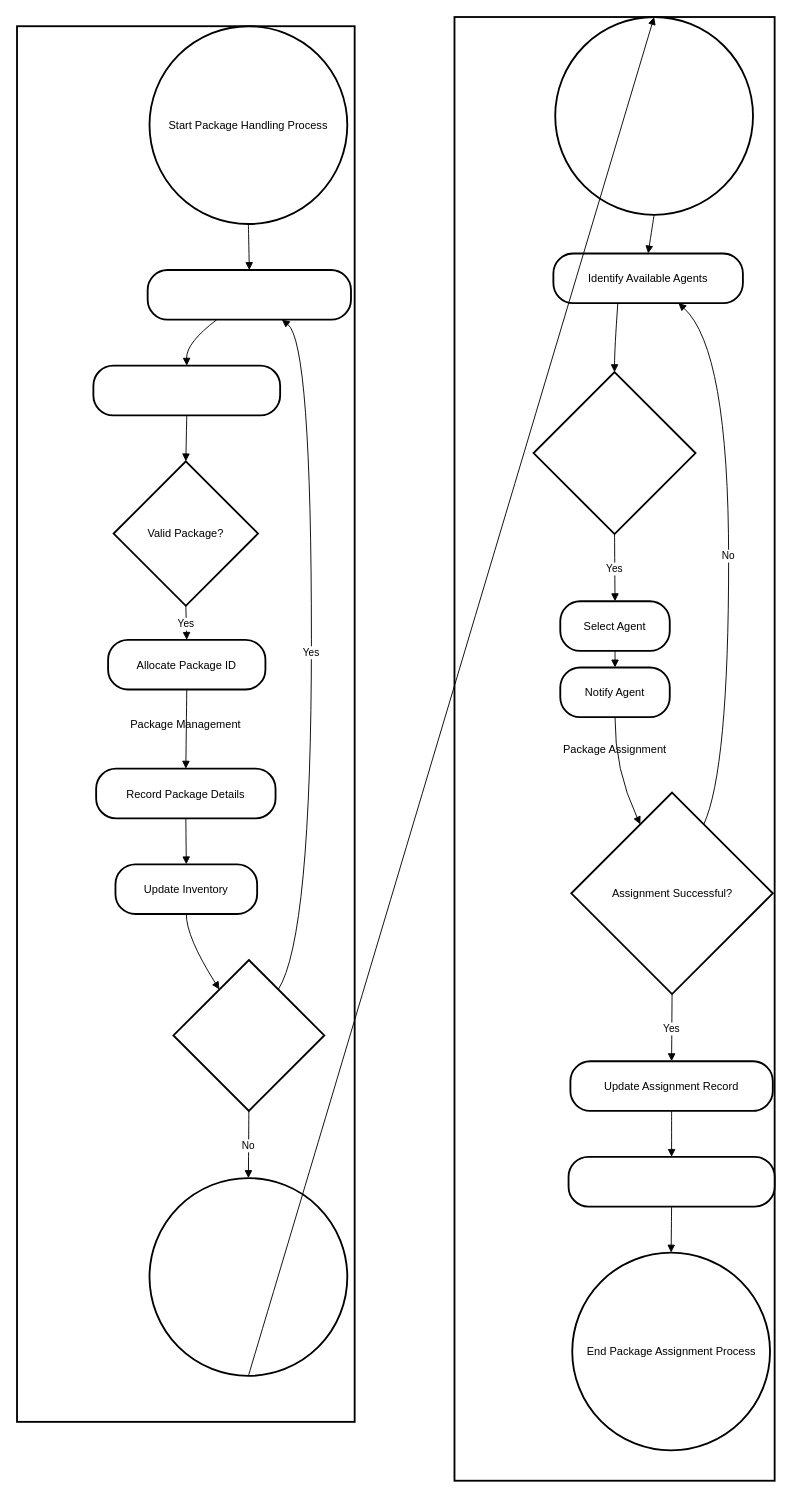
The diagram is 791 pixels wide and 1497 high, and some of its shapes have lost their labels. The box of each missing label's shape, as (x1, y1, x2, y2) in pixels:
Agents Available?: (532, 371, 696, 535)
End Package Handling Process: (148, 1177, 348, 1376)
More Packages?: (172, 959, 325, 1111)
Notify Sender and Receiver: (567, 1156, 775, 1207)
Process Incoming Packages: (146, 269, 351, 320)
Start Package Assignment Process: (554, 16, 753, 215)
Verify Package Contents: (92, 364, 281, 416)
